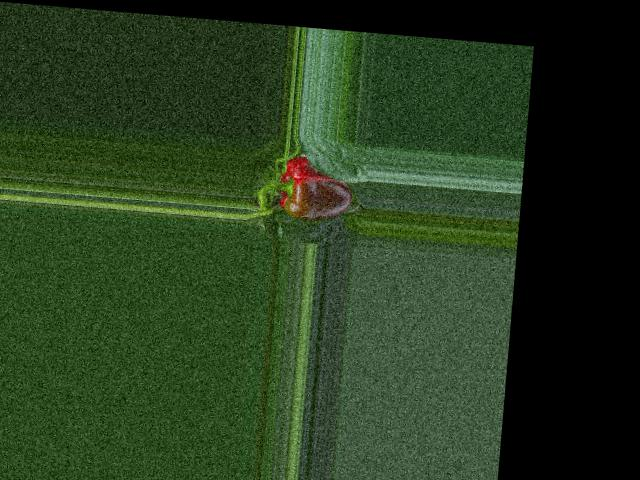bell_pepper: (267, 151, 360, 232)
